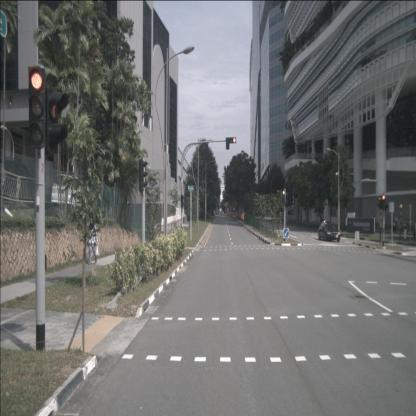human-pedestrian-adult: (88, 216, 99, 266), (393, 217, 398, 237), (404, 220, 408, 240), (412, 222, 416, 240)
vehicle-car: (0, 158, 37, 204), (51, 174, 88, 208), (318, 222, 341, 242)
